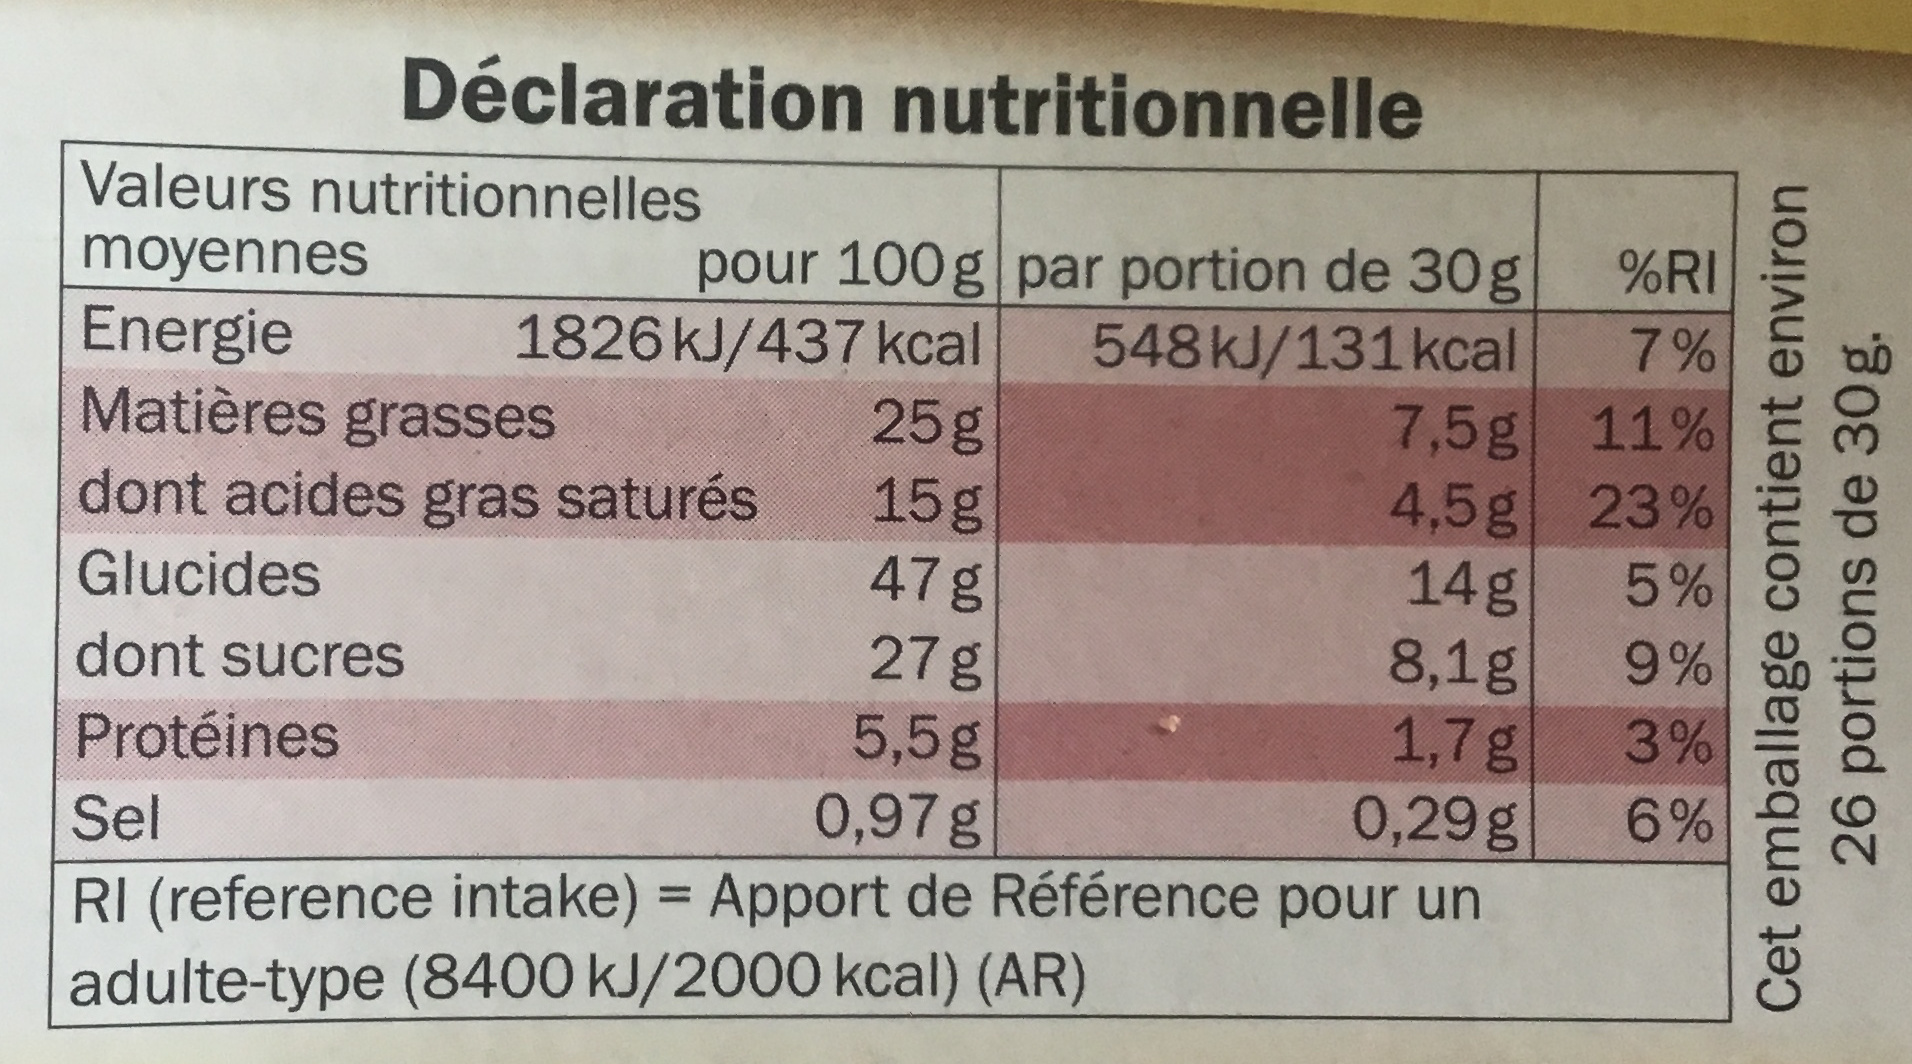column: (72, 301, 754, 843), (1014, 242, 1524, 854), (761, 314, 984, 850), (1579, 236, 1725, 852)
table: (41, 128, 1740, 867)
